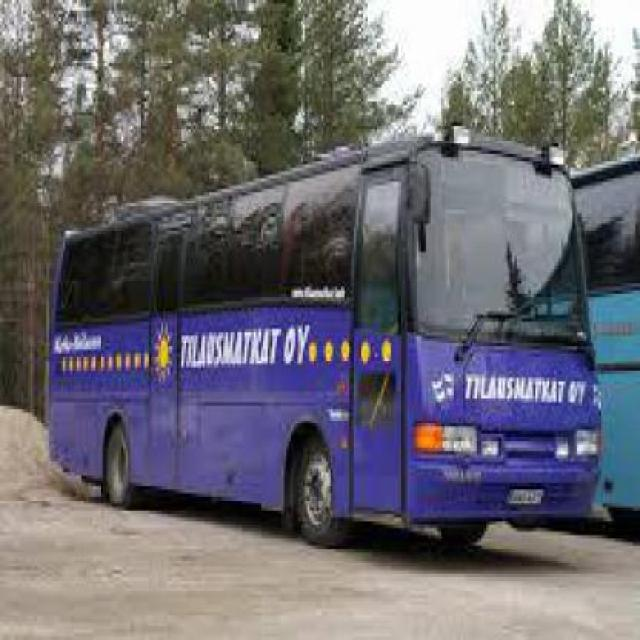bus: (45, 127, 602, 545)
